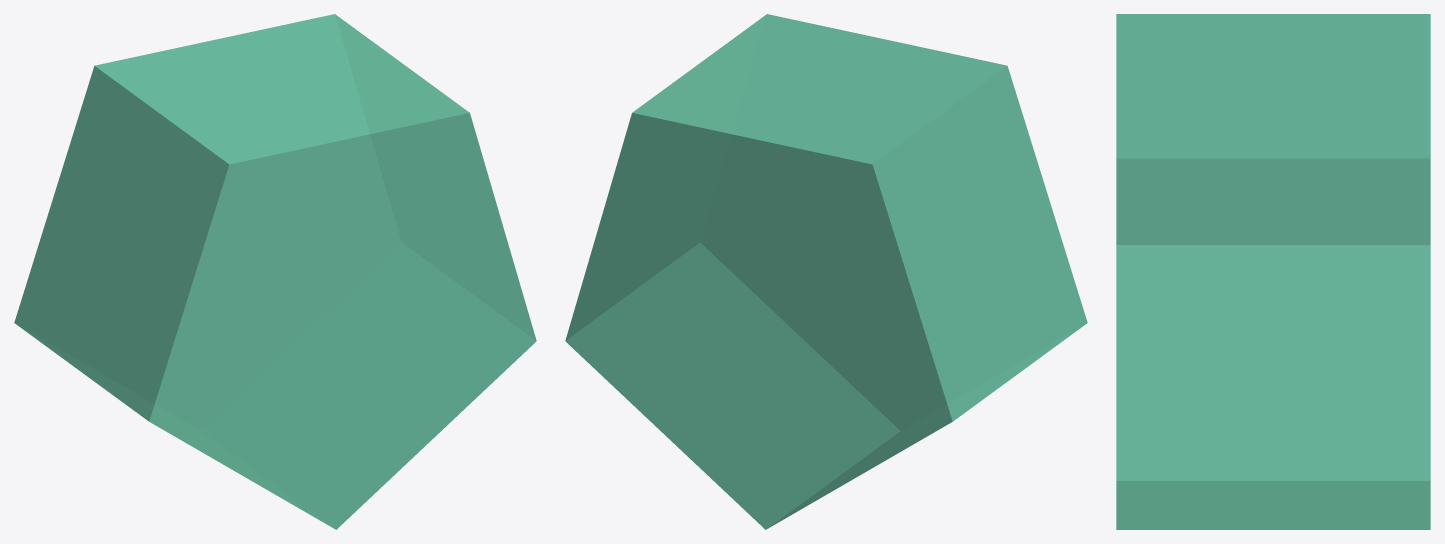
3 views of the same model, side by side, from view 1: azimuth 30°, elevation 25°; view 2: azimuth 150°, elevation 25°; view 3: azimuth 270°, elevation 25° (orthographic). The views are drawn at different scales.
Size of the model in its own units: 5.8 by 5.6 by 3.5.
